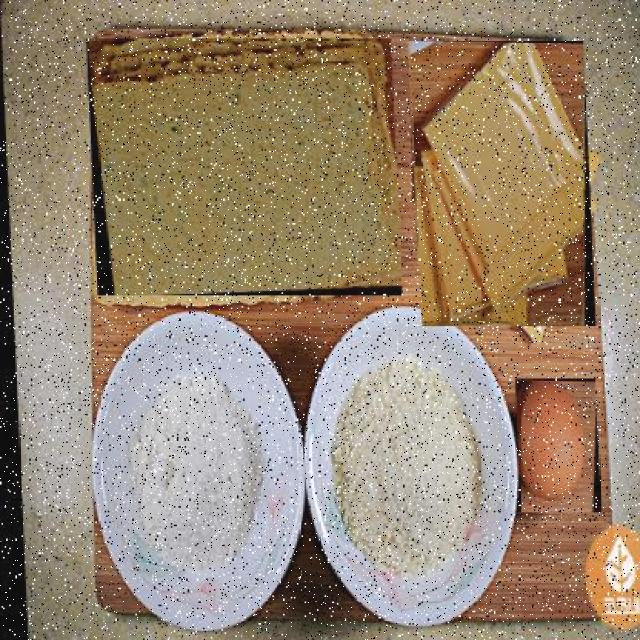Cheese: (408, 40, 594, 328)
Egg: (512, 378, 598, 514)
